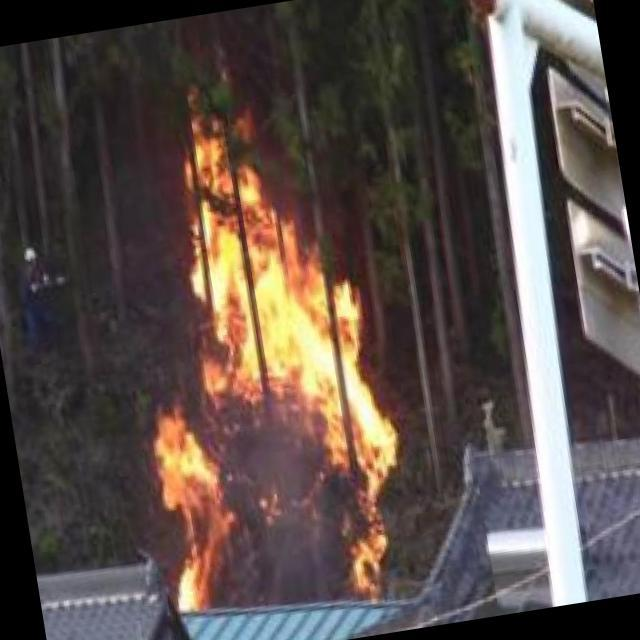Fire: (110, 102, 414, 626)
